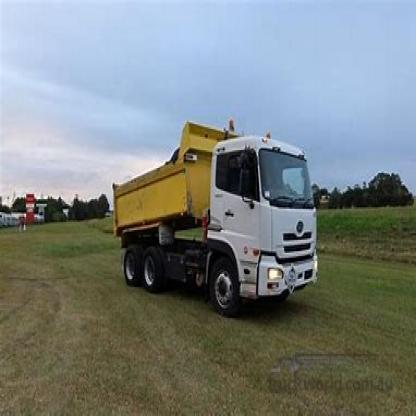dump_truck: (106, 108, 320, 321)
